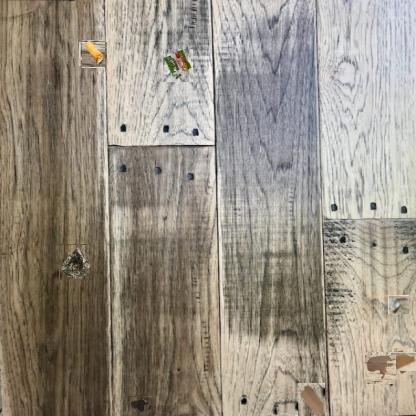dirty: (59, 245, 91, 280), (163, 50, 193, 83), (297, 382, 325, 416), (80, 42, 107, 68), (392, 350, 415, 373), (388, 294, 409, 315)
liquid: (366, 354, 394, 382), (128, 396, 152, 412)
